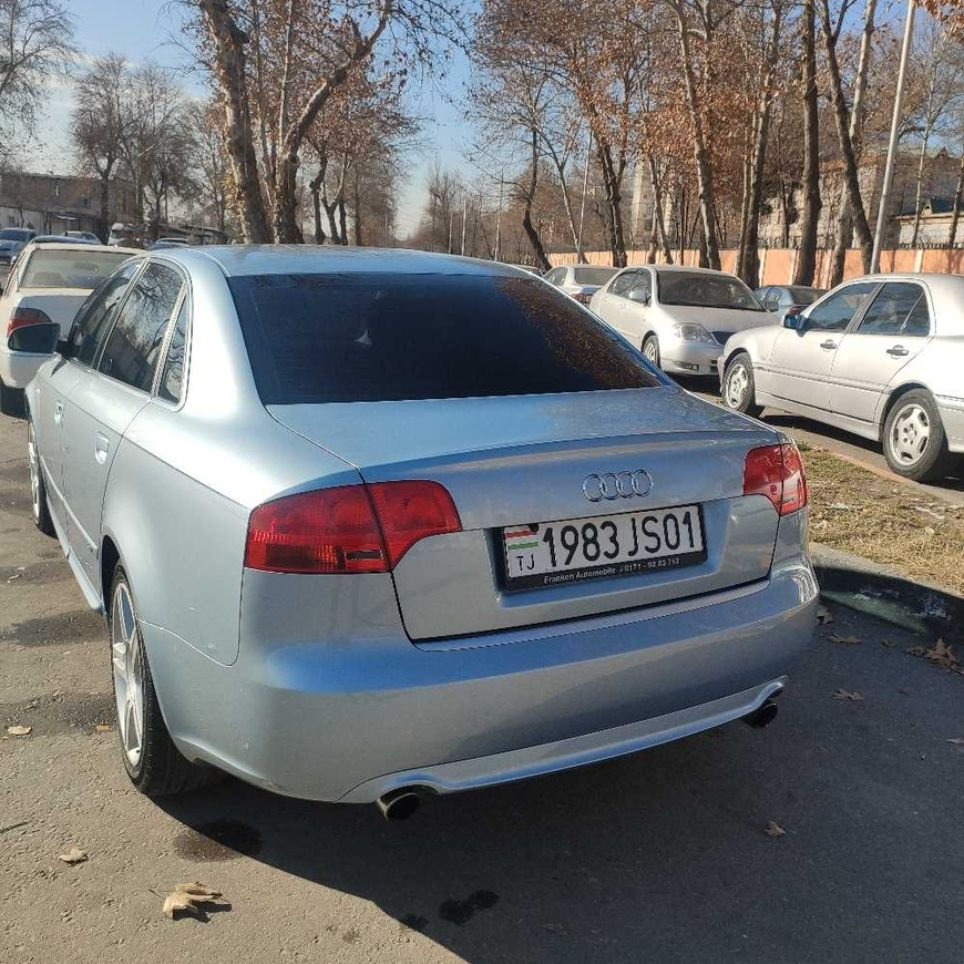license plate: (501, 499, 709, 586)
truck: (19, 227, 824, 848)
